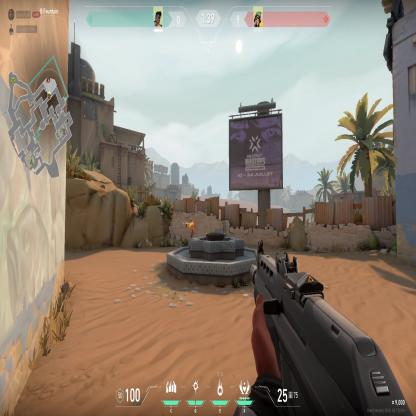enemy: (185, 217, 195, 238)
